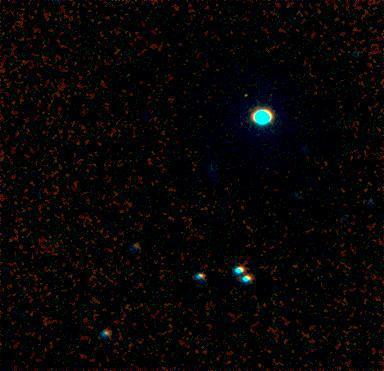star: (232, 78, 262, 108)
